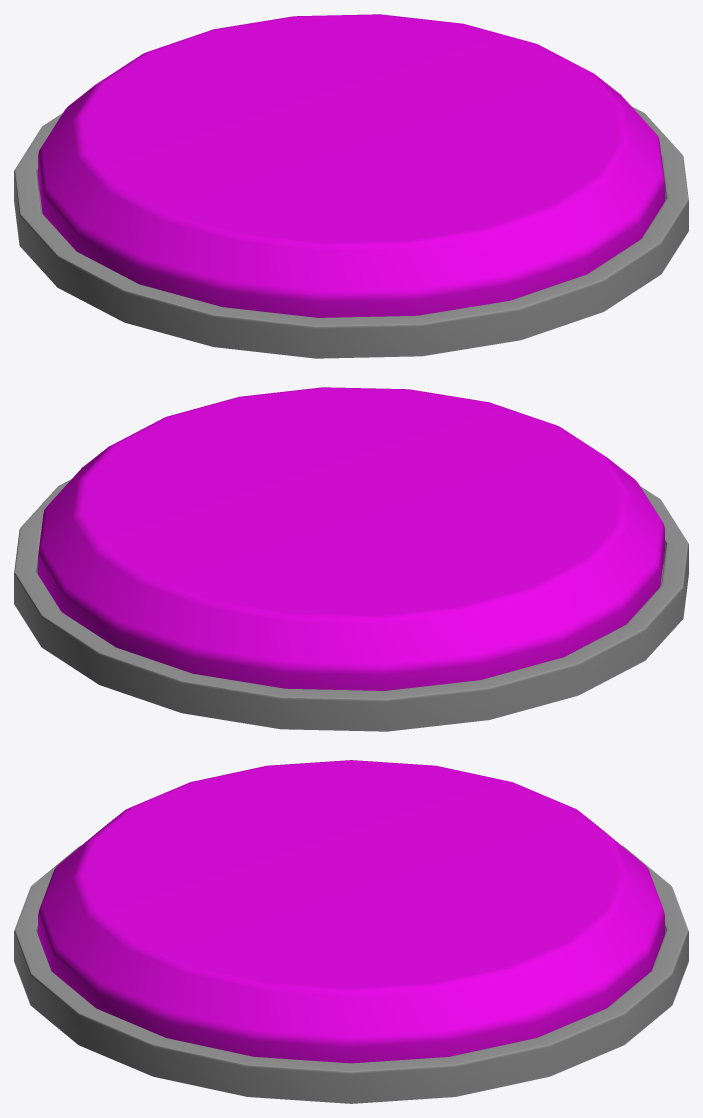
File: BigButtonPurple.fbx
3 views of the same model, one above another, from view 1: azimuth 30°, elevation 25°; view 2: azimuth 150°, elevation 25°; view 3: azimuth 270°, elevation 25° (orthographic).
Visible parts, largest first — view 1: ButtonTopPurple, ButtonBottomPurple; view 2: ButtonTopPurple, ButtonBottomPurple; view 3: ButtonTopPurple, ButtonBottomPurple.
Part boxes in pixels (x1,y1,x2,y2): ButtonTopPurple: (38, 14, 664, 317); ButtonBottomPurple: (14, 106, 688, 358); ButtonTopPurple: (38, 387, 664, 690); ButtonBottomPurple: (14, 479, 688, 731); ButtonTopPurple: (38, 760, 664, 1063); ButtonBottomPurple: (14, 845, 688, 1103).
Bounding box in the file's own units: 11.11 × 1.57 × 11.11.
